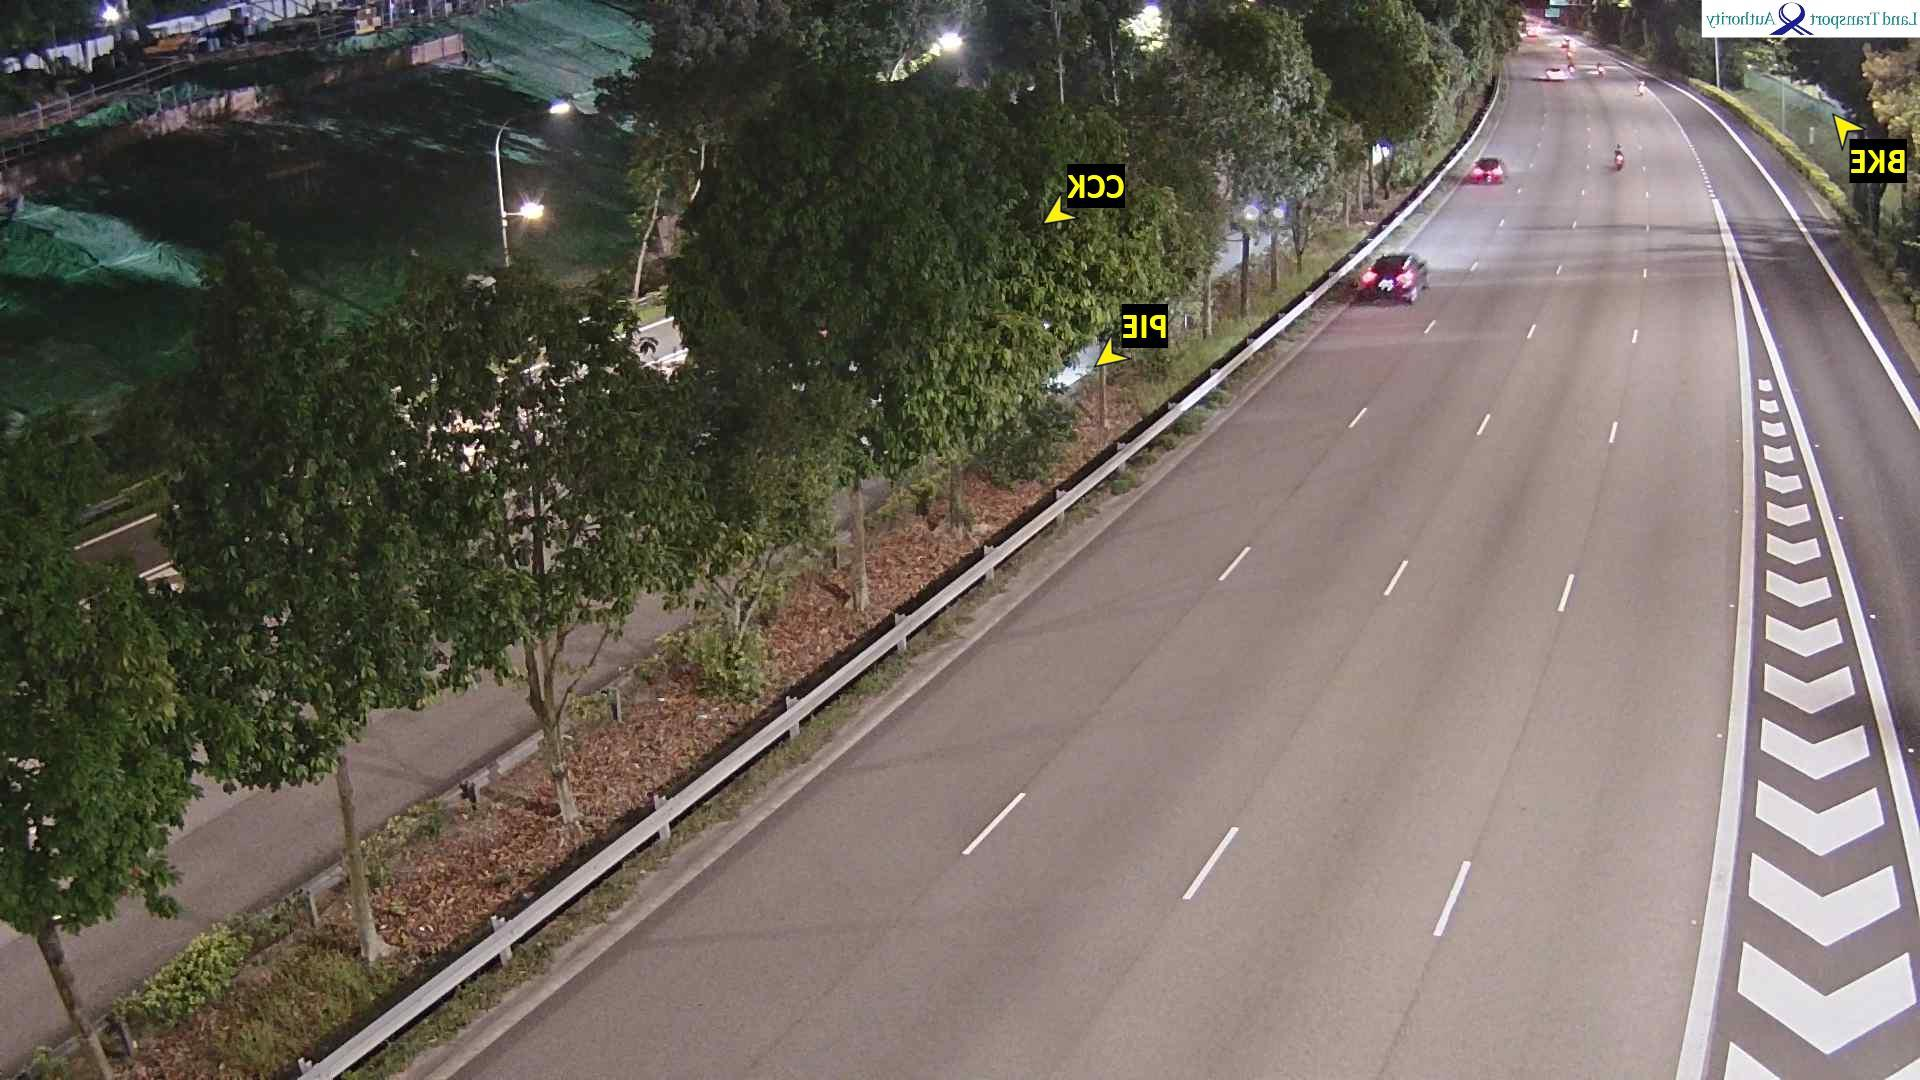cars: (1356, 251, 1429, 305), (1242, 185, 1288, 225), (1466, 156, 1506, 185), (1545, 65, 1568, 80)
motorcycle: (1614, 144, 1626, 171), (1559, 50, 1575, 67), (1636, 78, 1648, 95), (1560, 34, 1573, 49), (1598, 63, 1607, 76)
